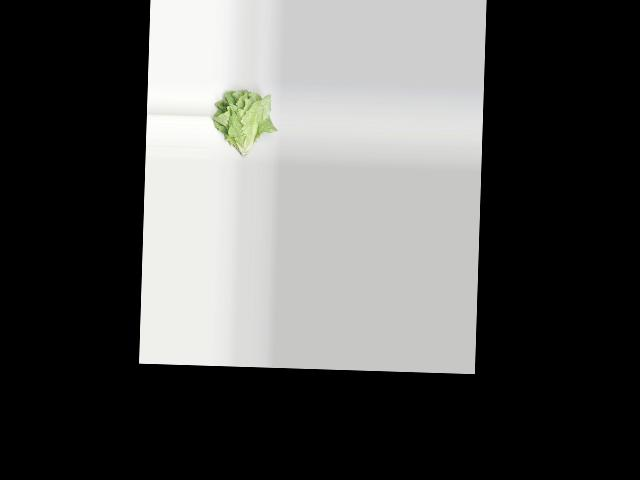lettuce: (211, 88, 278, 159)
